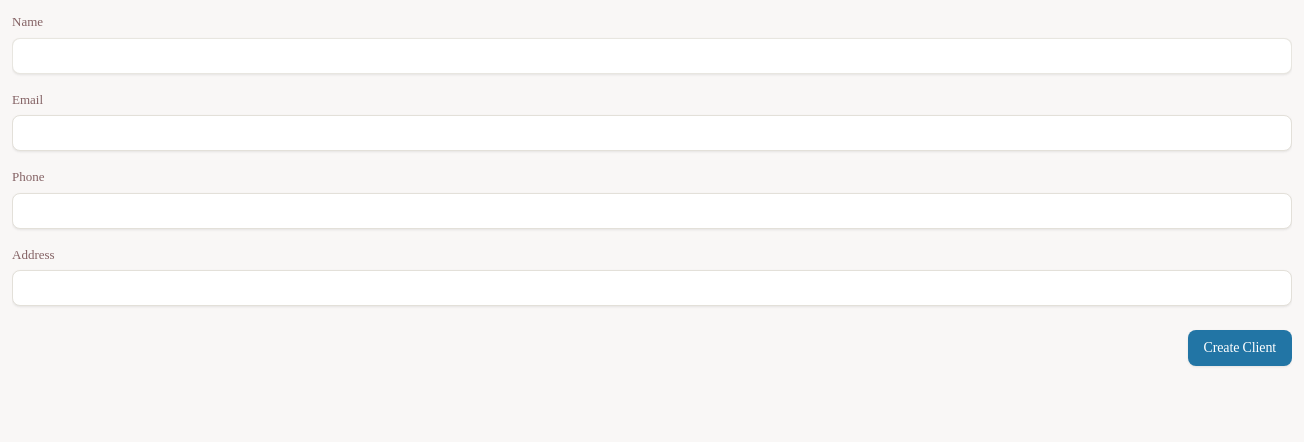
Test case: ClientForm › shows server error
Type "Test" into the field labelled "Name" at (652, 56), box [12,38,1292,74]
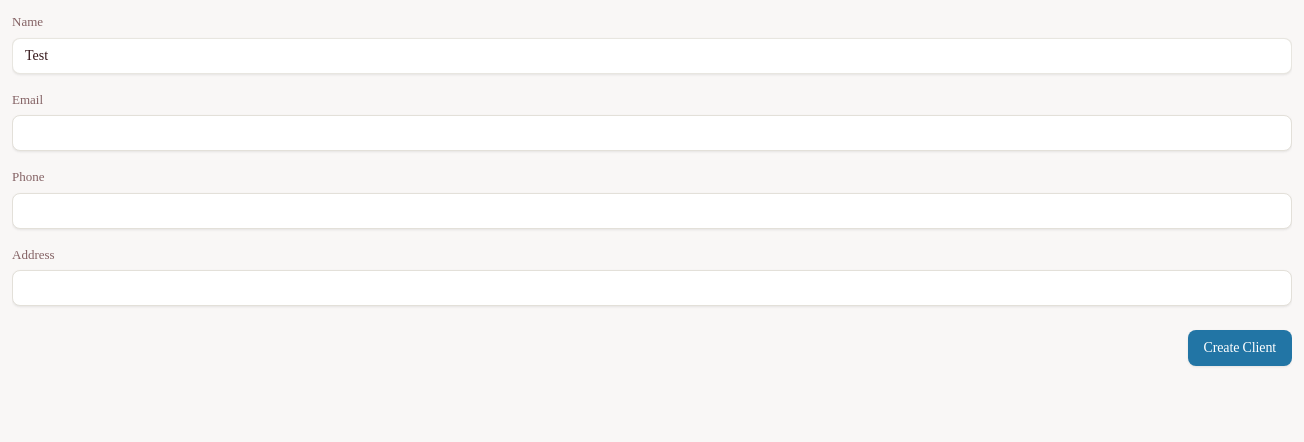
Submit the form "Create Client"
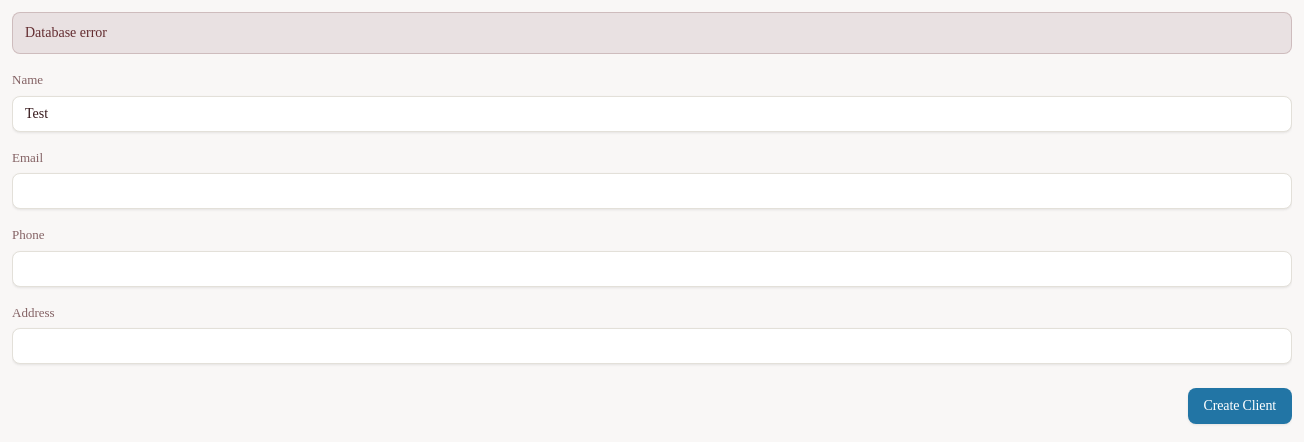
Expected: the text "Database error" is shown, [12,12,1292,54]
